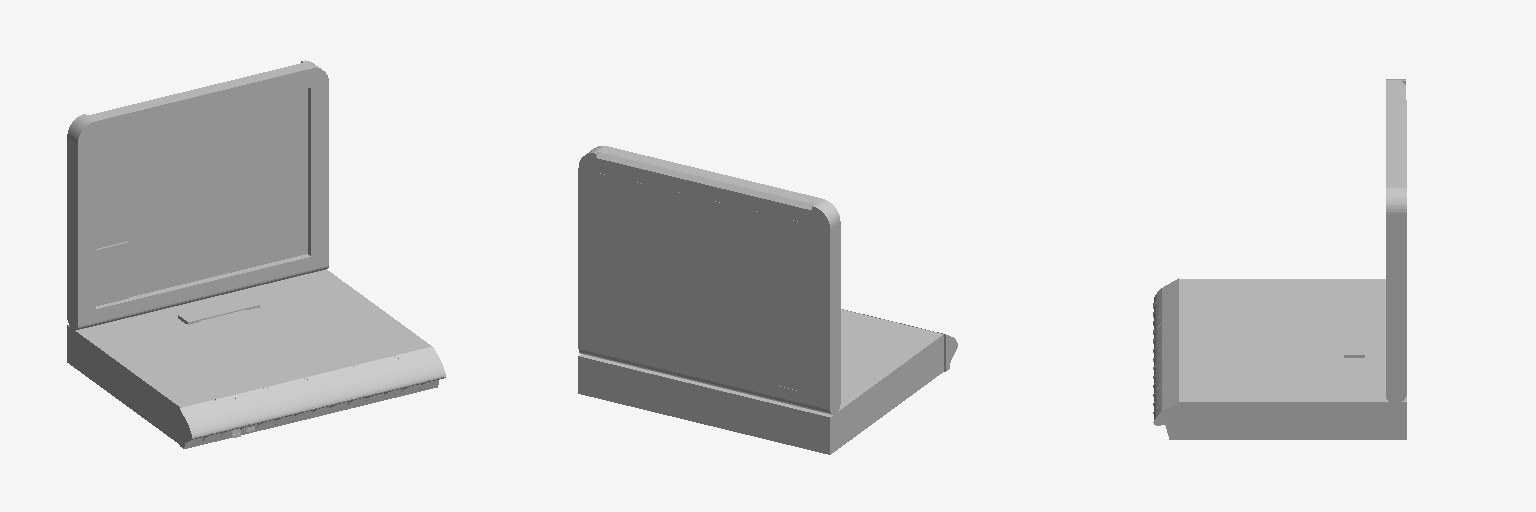
Rendered from puedetop.obj.
3 renders of one model, left to right at view 1: azimuth 30°, elevation 25°; view 2: azimuth 150°, elevation 25°; view 3: azimuth 270°, elevation 25°, orthographic.
Visible parts, largest first — view 1: Circle; view 2: Circle; view 3: Circle.
Boxes of the visible parts, x1,y1,x2,y2 form: Circle: [67, 60, 445, 448]; Circle: [578, 146, 957, 454]; Circle: [1153, 79, 1406, 439].
Size of the model in its own units: 0.8834 by 0.8125 by 0.7634.